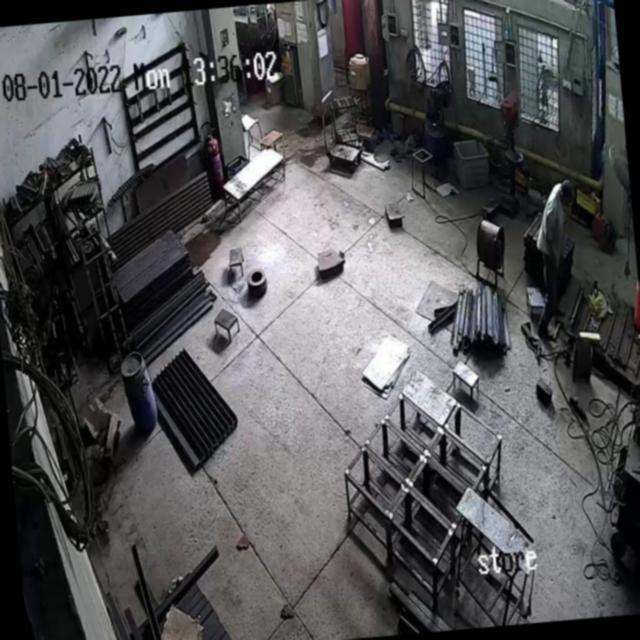person: (526, 178, 584, 325)
